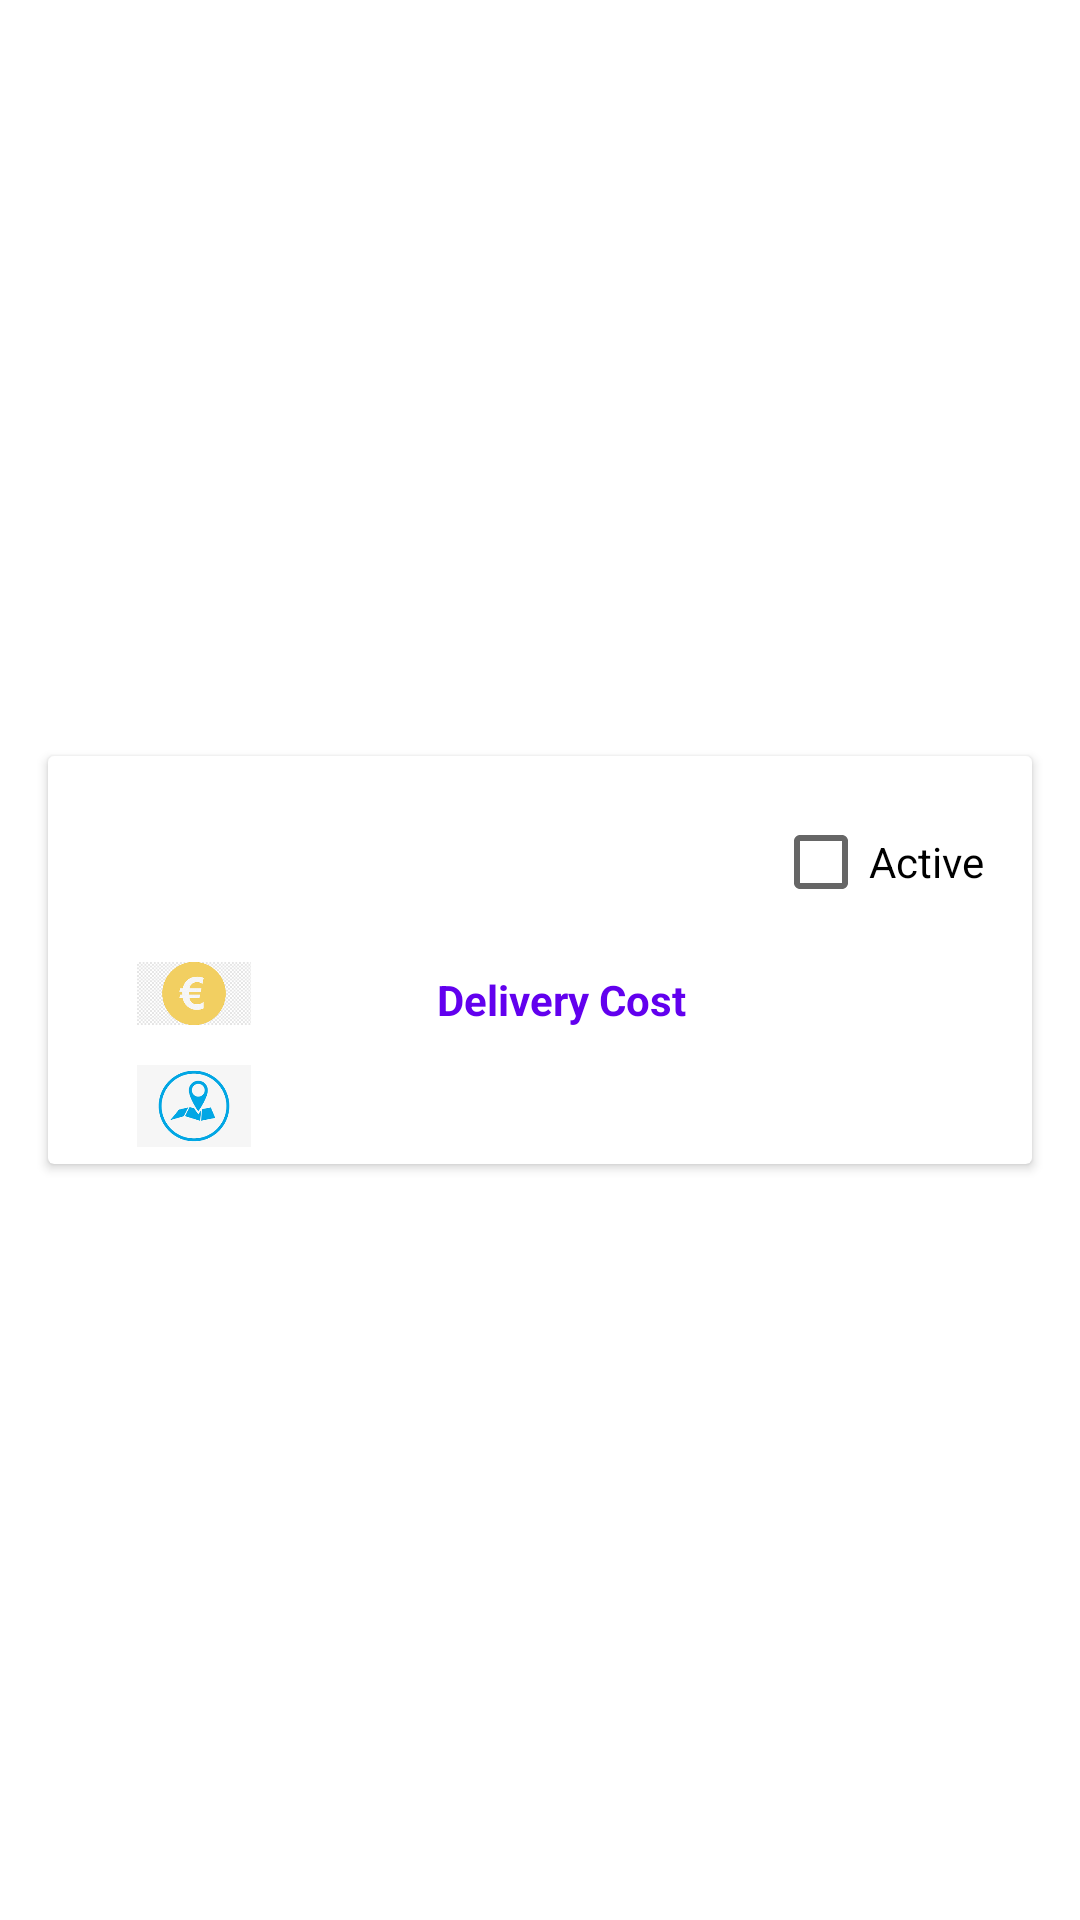

Icon bounding boxes for this 1080x1920 phone screenshot, format (x1, y1, x2, y2):
location: (137, 1065, 251, 1147)
money: (137, 962, 250, 1025)
